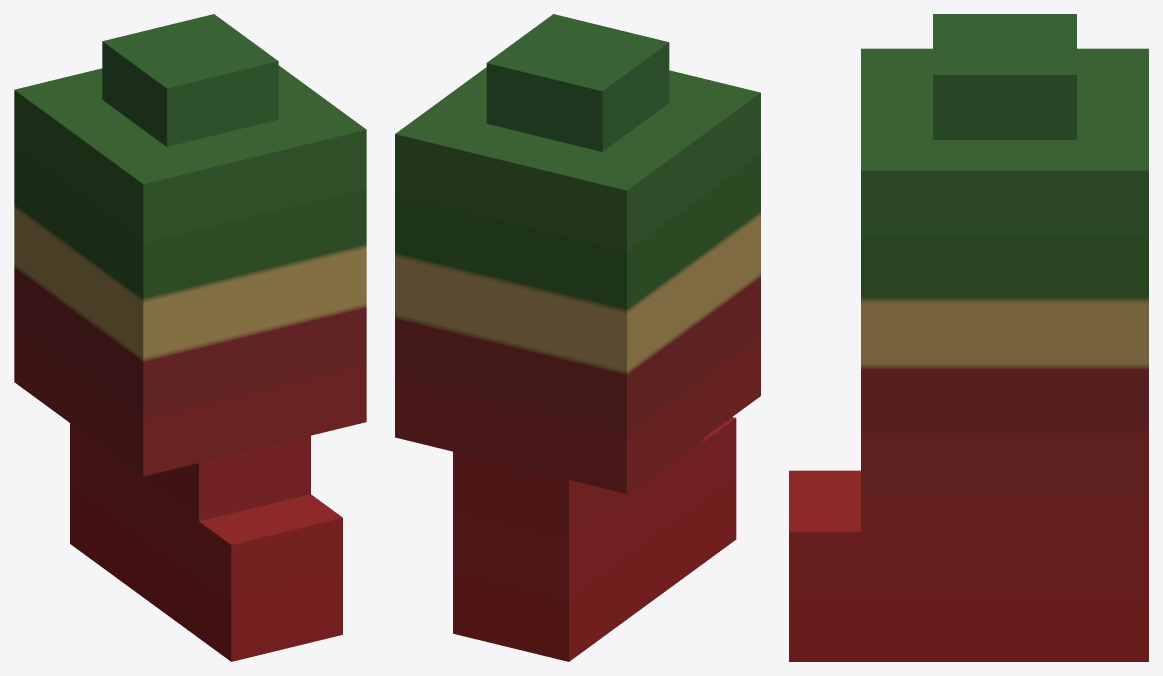
The model's file is Knee066.fbx.
The picture shows the model from 3 angles, left to right: view 1: azimuth 30°, elevation 25°; view 2: azimuth 150°, elevation 25°; view 3: azimuth 270°, elevation 25°; orthographic projection. The views are drawn at different scales.
Parts seen in each view (by area): view 1: Knee066; view 2: Knee066; view 3: Knee066.
Part boxes in pixels (left/top/right/bottom): Knee066: left=14, top=14, right=366, bottom=661; Knee066: left=395, top=14, right=760, bottom=661; Knee066: left=789, top=14, right=1148, bottom=661.
Bounding box in the file's own units: 4 × 9 × 5.
